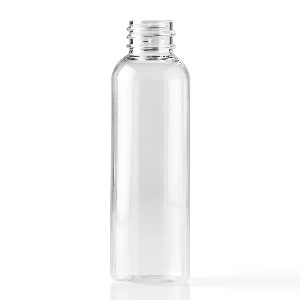emptybottle: (109, 18, 191, 284)
